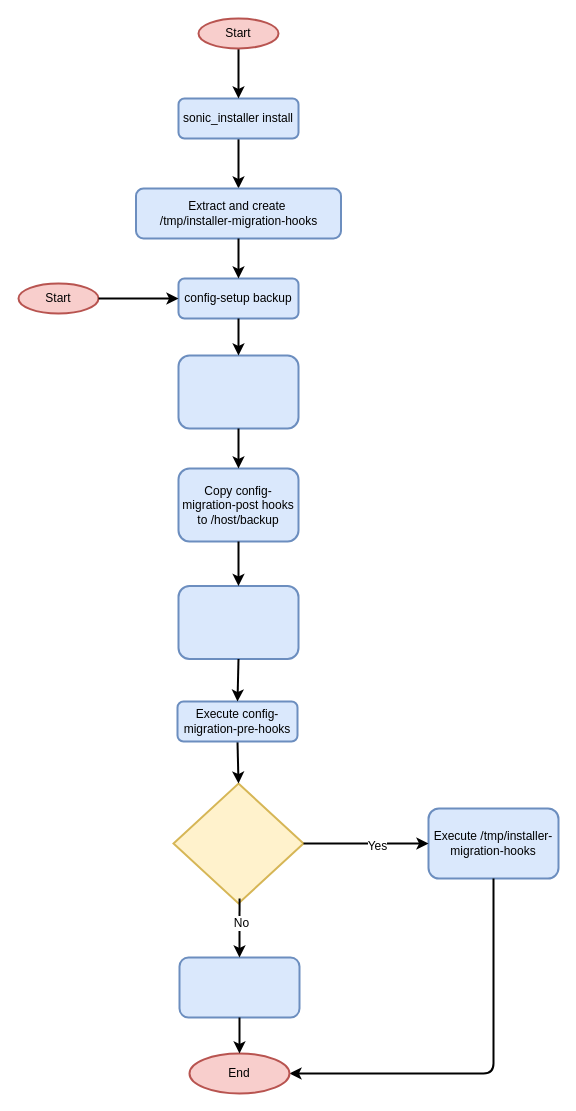
The diagram is 576 pixels wide and 1111 high, and some of its shapes have lost their labels. The box of each missing label's shape, as (x1, y1, x2, y2) in pixels:
Copy /etc/sonic to /host/old_config: (177, 584, 299, 660)
Copy config-migration-pre hooks to /host/backup: (177, 354, 299, 429)
Execute /image/installer-migration-hooks: (178, 956, 300, 1018)
If /tmp/installer-migraiton-hooks exists?: (172, 782, 304, 904)
